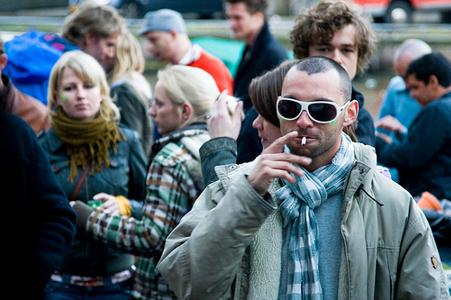person: (151, 56, 450, 300)
